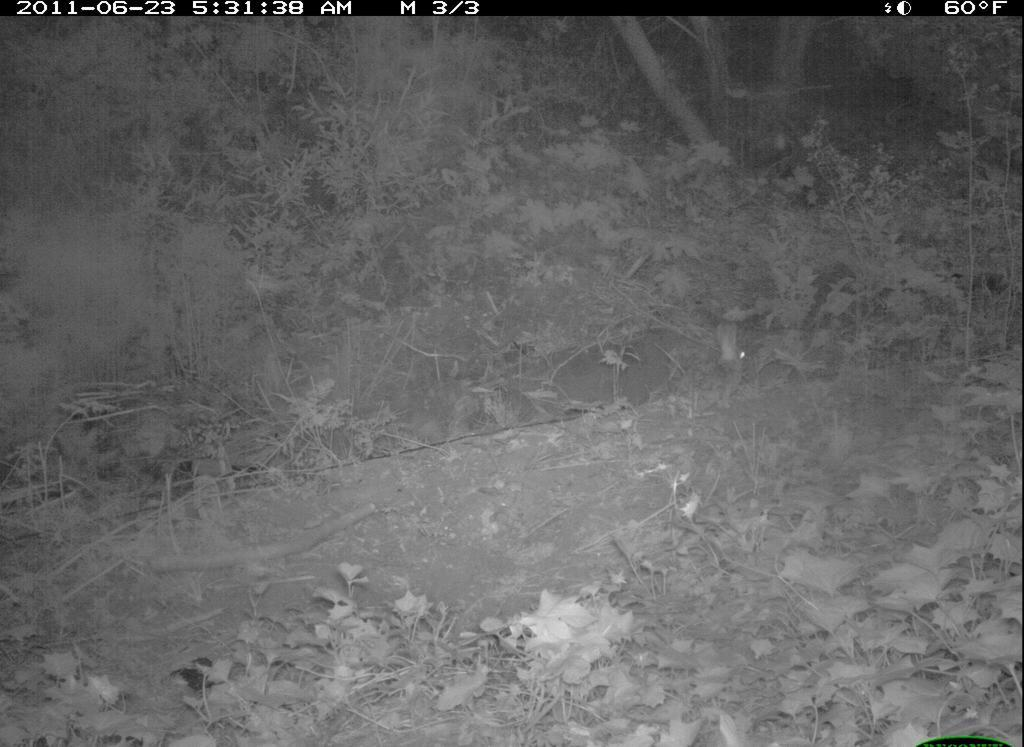rabbit: (689, 291, 779, 406)
